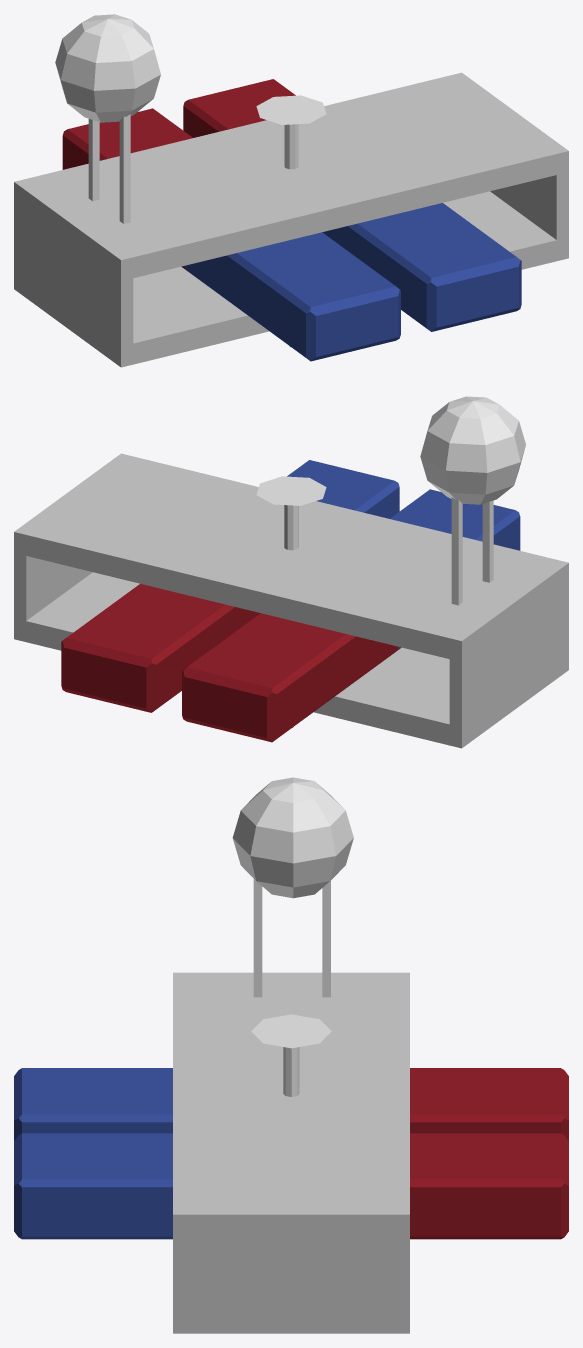
3 renders of one model, top to bottom at view 1: azimuth 30°, elevation 25°; view 2: azimuth 150°, elevation 25°; view 3: azimuth 270°, elevation 25°, orthographic. The views are drawn at different scales.
Parts seen in each view (by area): view 1: Cube, Cube.003, Cube.004, Sphere, Cylinder, Cube.002, Cube.001; view 2: Cube, Cube.003, Cube.004, Sphere, Cylinder, Cube.001, Cube.002; view 3: Cube, Cube.004, Cube.003, Sphere, Cylinder, Cube.002, Cube.001.
Part boxes in pixels (<box>): Cube: <box>14,72,568,367</box>; Cube.003: <box>62,108,400,361</box>; Cube.004: <box>183,79,521,331</box>; Sphere: <box>55,14,160,122</box>; Cylinder: <box>256,95,326,346</box>; Cube.002: <box>119,114,130,223</box>; Cube.001: <box>88,119,99,201</box>; Cube: <box>14,453,568,748</box>; Cube.003: <box>182,489,520,742</box>; Cube.004: <box>61,460,399,712</box>; Sphere: <box>420,396,525,504</box>; Cylinder: <box>256,476,326,727</box>; Cube.001: <box>451,497,462,605</box>; Cube.002: <box>482,500,493,582</box>; Cube: <box>173,972,409,1333</box>; Cube.004: <box>14,1133,568,1239</box>; Cube.003: <box>14,1068,568,1140</box>; Sphere: <box>232,777,353,898</box>; Cylinder: <box>251,1014,331,1096</box>; Cube.002: <box>253,879,262,997</box>; Cube.001: <box>322,881,330,997</box>.
Size of the model in its own units: 957 by 749 by 915.
